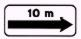Indicadores do inicio ou fim do local regulamentado: (4, 4, 77, 37)
